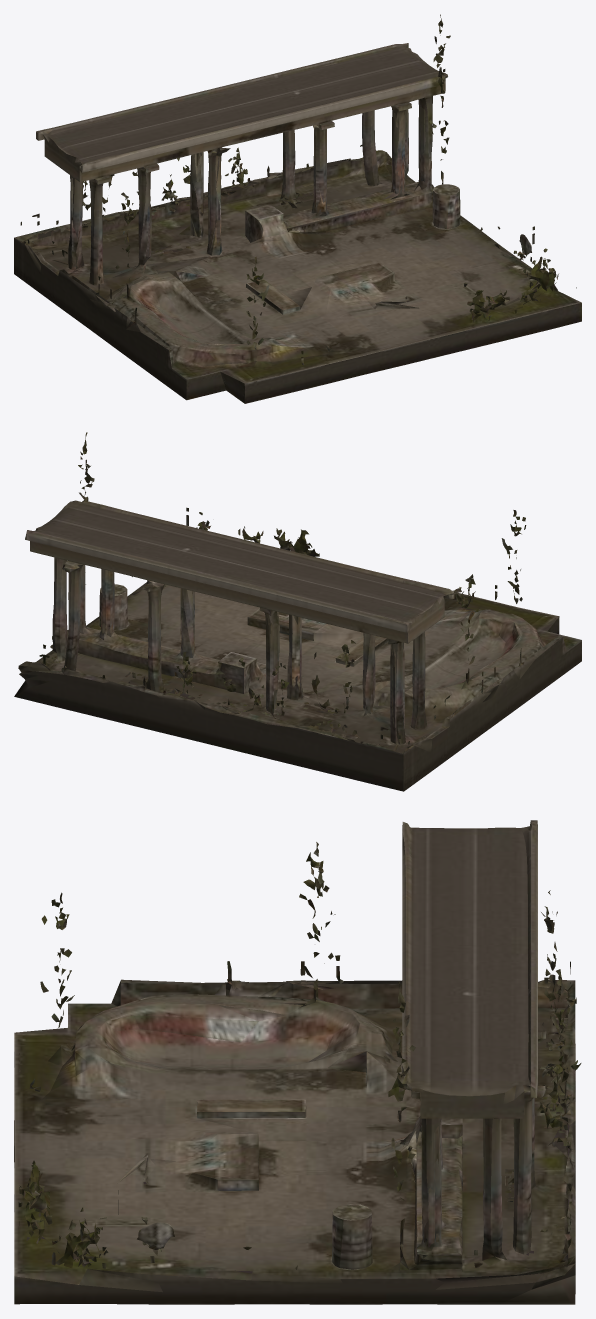
The model's file is hermanni-skatepark-v01.glb.
3 views of the same model, one above another, from view 1: azimuth 30°, elevation 25°; view 2: azimuth 150°, elevation 25°; view 3: azimuth 270°, elevation 25° (orthographic). The views are drawn at different scales.
Visible parts, largest first — view 1: Mesh0; view 2: Mesh0; view 3: Mesh0.
Boxes of the visible parts, left/top/right/bottom form: Mesh0: left=14, top=14, right=581, bottom=403; Mesh0: left=14, top=432, right=581, bottom=791; Mesh0: left=14, top=820, right=581, bottom=1304.
Size of the model in its own units: 1.9 by 1.03 by 1.67.
1 material, 1 textured.
